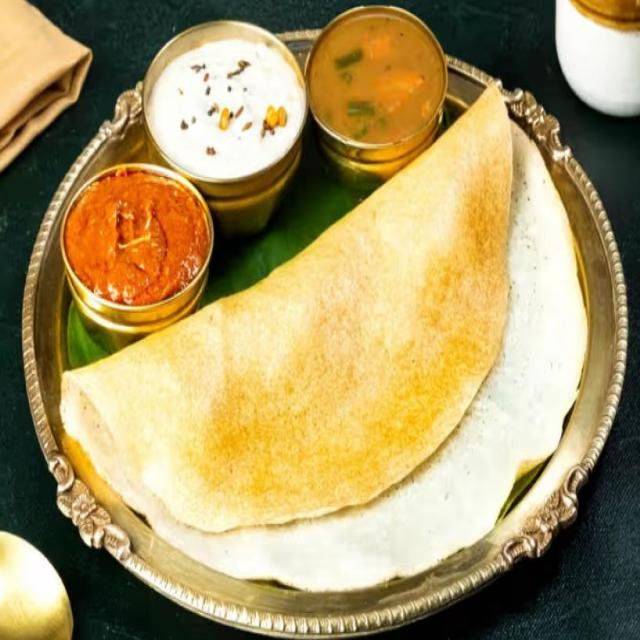DOSA: (61, 84, 586, 586)
RED CHUTNEY: (69, 179, 200, 306)
SAMBAR: (310, 20, 438, 139)
WHITE CHUTNEY: (151, 42, 297, 175)
